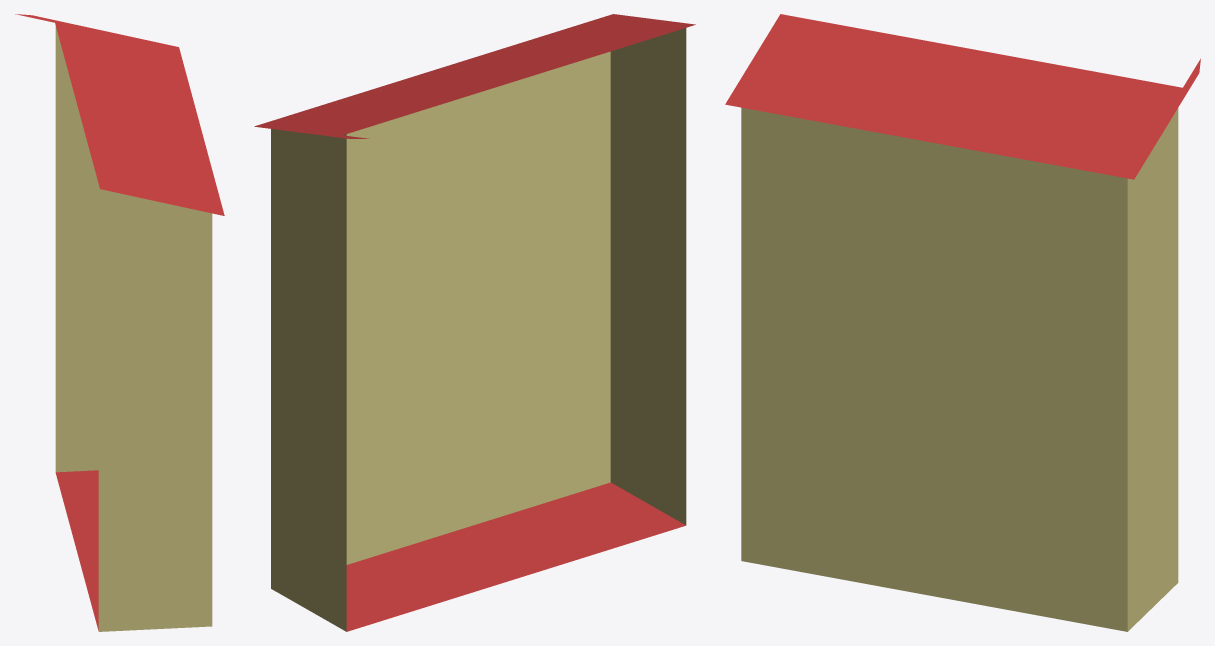
The picture shows the model from 3 angles, left to right: view 1: azimuth 30°, elevation 25°; view 2: azimuth 150°, elevation 25°; view 3: azimuth 270°, elevation 25°; orthographic projection. The views are drawn at different scales.
Size of the model in its own units: 6.12 by 9.54 by 11.23.
